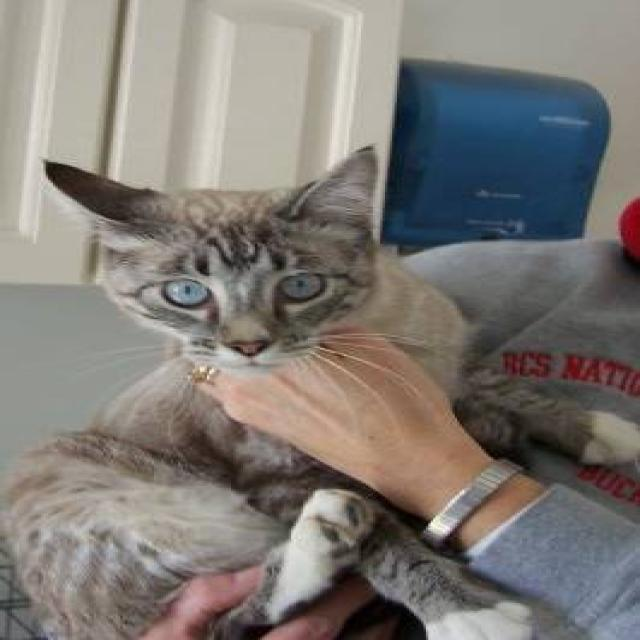cat: (0, 143, 638, 638)
